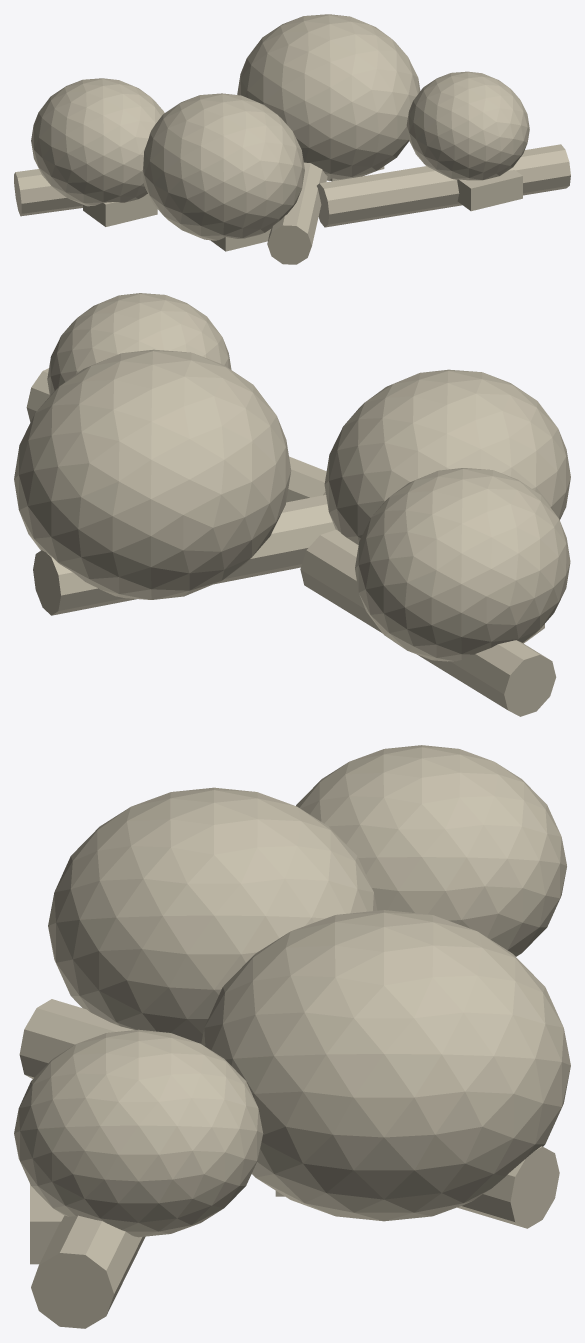
Rendered from BonePile_Skulls.obj.
3 views of the same model, one above another, from view 1: azimuth 30°, elevation 25°; view 2: azimuth 150°, elevation 25°; view 3: azimuth 270°, elevation 25° (orthographic). The views are drawn at different scales.
Parts seen in each view (by area): view 1: Skull_1, Skull_0, Skull_3, Skull_2, Bone_1, Bone_2, Bone_0, Jaw_2, Jaw_3, Jaw_0; view 2: Skull_1, Skull_3, Skull_0, Skull_2, Bone_0, Bone_2, Bone_1; view 3: Skull_1, Skull_0, Skull_2, Skull_3, Bone_1, Bone_2, Jaw_2.
Part boxes in pixels (left/top/right/bottom): Skull_1: left=237, top=14, right=420, bottom=180; Skull_0: left=142, top=93, right=304, bottom=240; Skull_3: left=31, top=78, right=164, bottom=206; Skull_2: left=406, top=71, right=529, bottom=180; Bone_1: left=317, top=144, right=570, bottom=227; Bone_2: left=267, top=162, right=327, bottom=264; Bone_0: left=14, top=169, right=82, bottom=216; Jaw_2: left=457, top=170, right=522, bottom=211; Jaw_3: left=83, top=194, right=157, bottom=226; Jaw_0: left=210, top=229, right=270, bottom=251; Skull_1: left=14, top=349, right=291, bottom=599; Skull_3: left=355, top=468, right=570, bottom=661; Skull_0: left=324, top=369, right=570, bottom=544; Skull_2: left=47, top=293, right=231, bottom=395; Bone_0: left=300, top=529, right=556, bottom=716; Bone_2: left=33, top=495, right=335, bottom=615; Bone_1: left=26, top=368, right=326, bottom=502; Skull_1: left=201, top=910, right=570, bottom=1221; Skull_0: left=48, top=787, right=377, bottom=1043; Skull_2: left=14, top=1029, right=263, bottom=1237; Skull_3: left=296, top=745, right=566, bottom=956; Bone_1: left=31, top=1215, right=145, bottom=1328; Bone_2: left=19, top=999, right=559, bottom=1228; Jaw_2: left=30, top=1184, right=64, bottom=1264.
Bounding box in the file's own units: 1.02 × 0.324 × 0.59.
